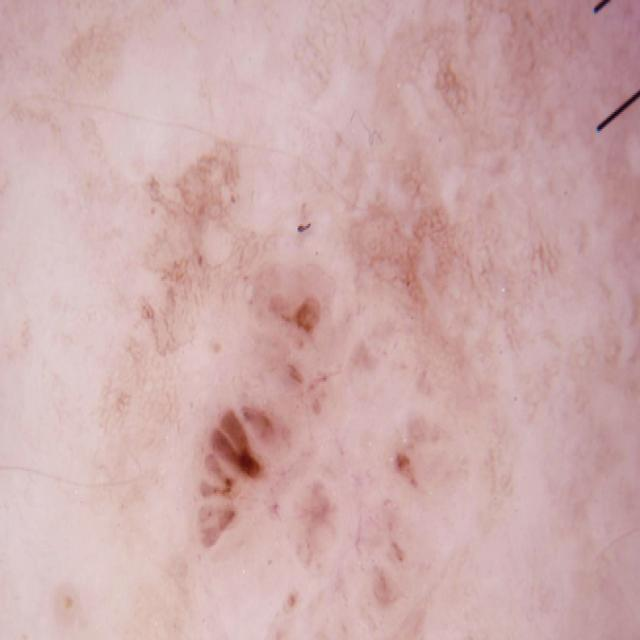Carcinoma: (101, 121, 475, 640)
